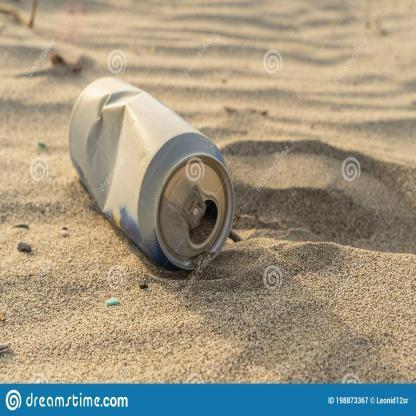can: (67, 76, 234, 267)
